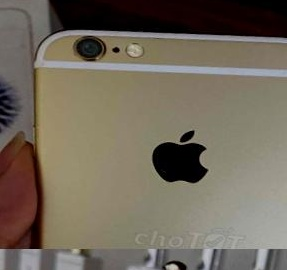scratch: (154, 230, 287, 249)
